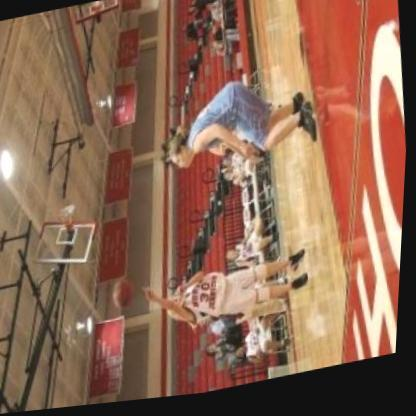basketball: (110, 273, 144, 319)
